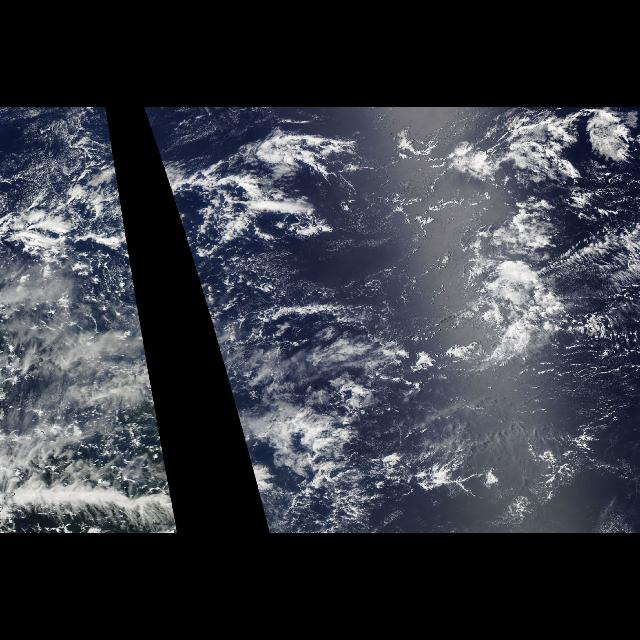Fish: (0, 449, 176, 521), (244, 449, 294, 521)
Sugar: (524, 218, 636, 362)
